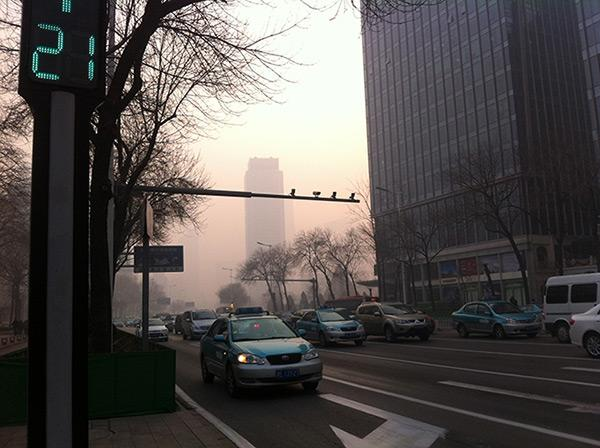bus: (541, 272, 600, 344)
car: (198, 306, 323, 395), (450, 299, 544, 338), (355, 301, 437, 342), (297, 308, 366, 346), (180, 309, 220, 339), (288, 307, 331, 332), (135, 318, 168, 341), (150, 310, 173, 332), (113, 317, 124, 328), (125, 318, 134, 326)
